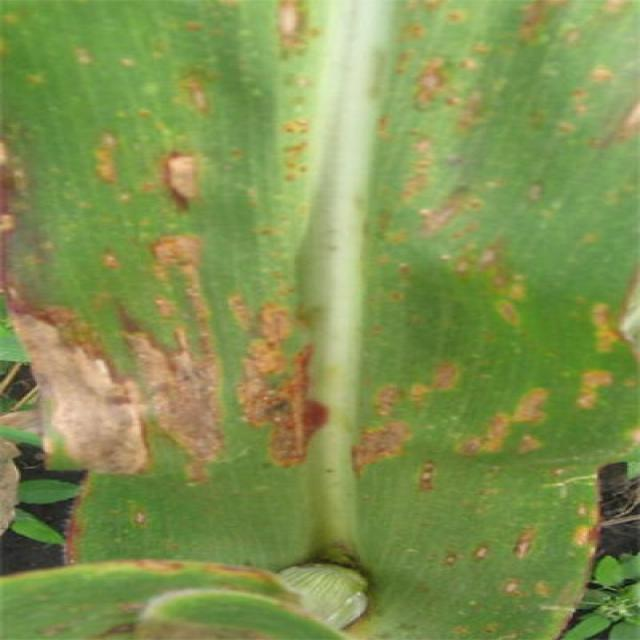blight: (28, 200, 350, 484)
